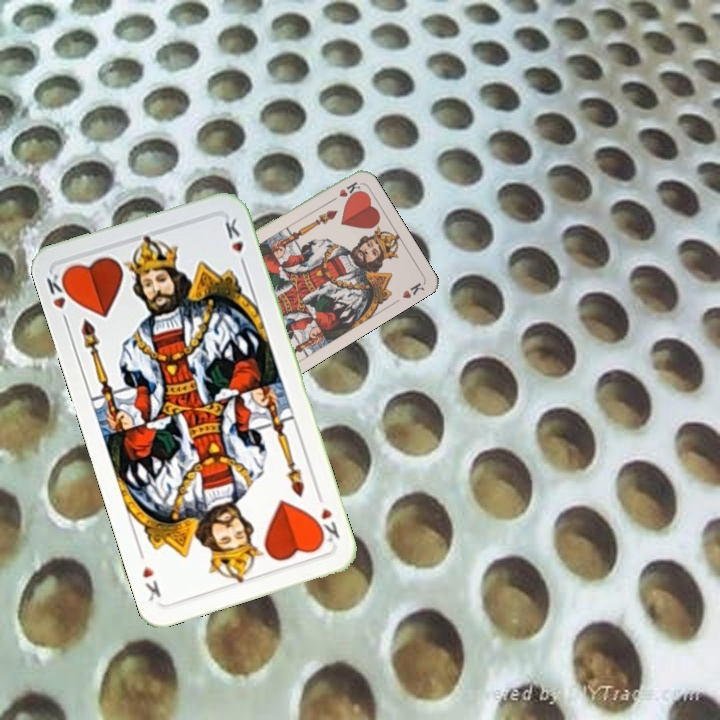HK: (42, 267, 76, 327), (310, 489, 342, 546), (325, 177, 363, 206)
